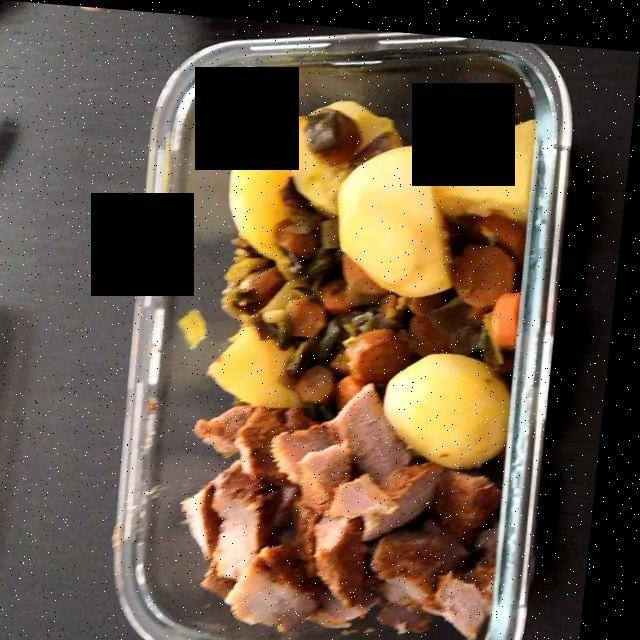carrot: (280, 197, 523, 408)
leek: (227, 105, 478, 319)
pork: (207, 404, 515, 637)
potatoes: (208, 93, 535, 468)
